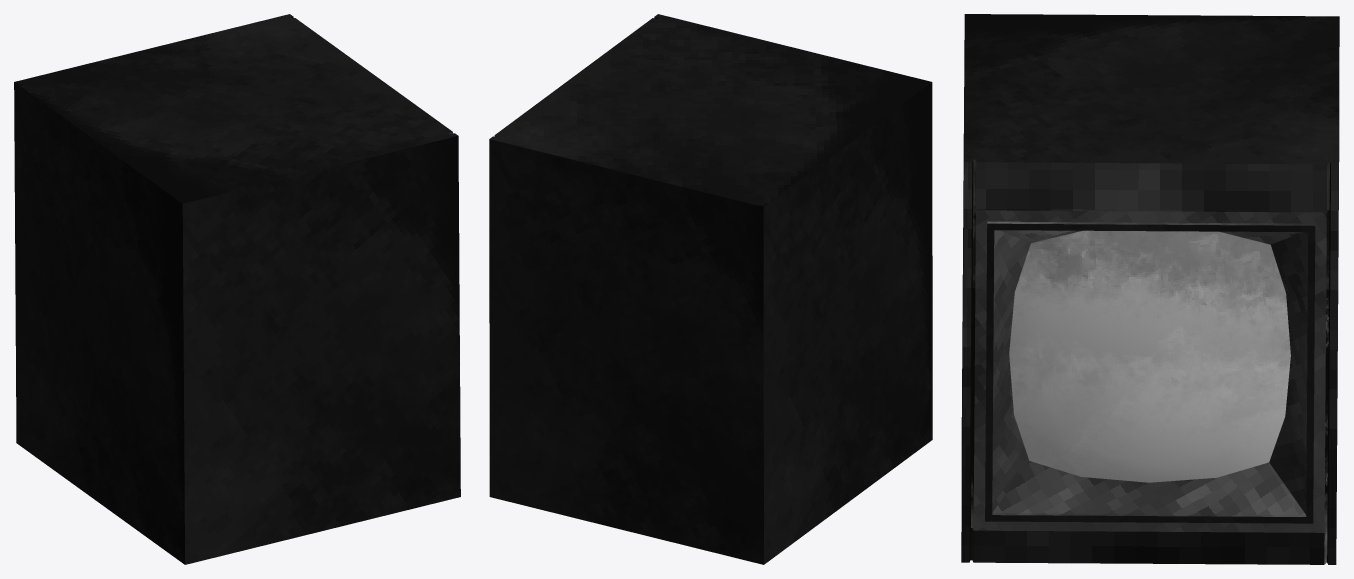
The picture shows the model from 3 angles, left to right: view 1: azimuth 30°, elevation 25°; view 2: azimuth 150°, elevation 25°; view 3: azimuth 270°, elevation 25°; orthographic projection. The views are drawn at different scales.
Parts seen in each view (by area): view 1: Screen; view 2: Screen; view 3: Screen.
Part boxes in pixels (<box>): Screen: <box>14,14,460,564</box>; Screen: <box>489,14,932,564</box>; Screen: <box>961,14,1339,564</box>.
Size of the model in its own units: 2.29 by 2.83 by 2.41.
Materials: 1 (1 with a texture image).
